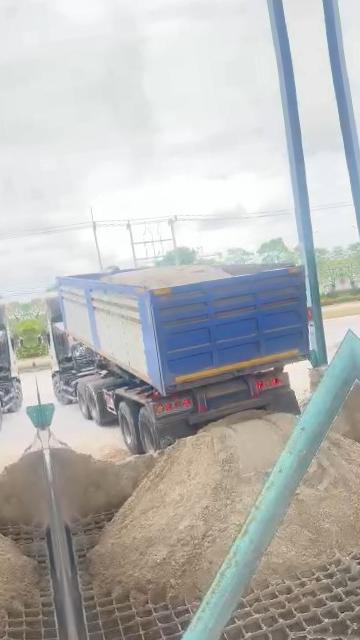sand: (92, 411, 294, 601), (256, 434, 360, 580), (51, 447, 160, 523), (102, 264, 231, 289), (333, 382, 360, 445), (302, 368, 324, 408)
